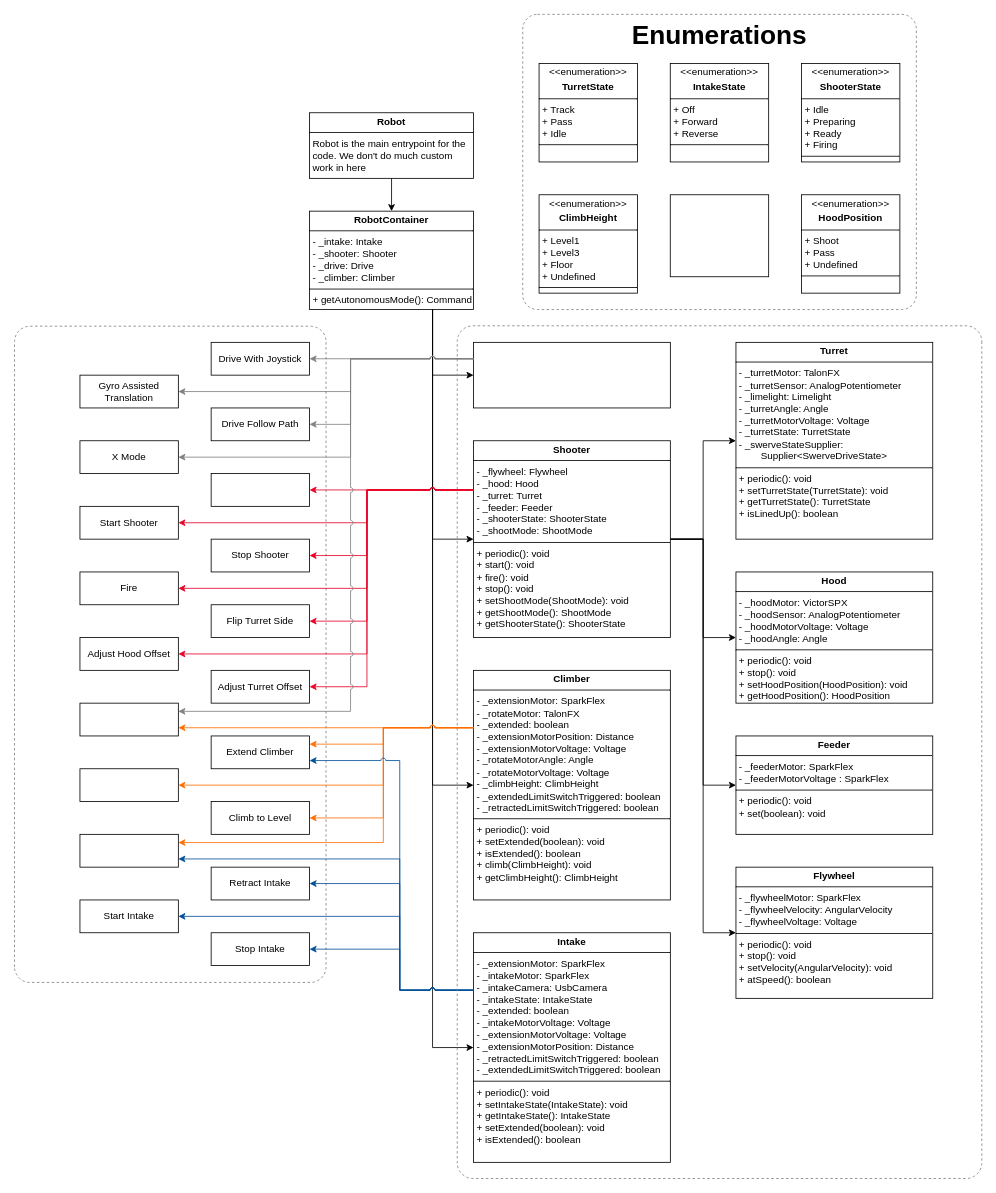
Image size: 996x1193. Some labels were removed from this diagram. Here are the shapes that lost their labels. From the top down, the box of each, then its label:
(669, 194, 769, 277): <<enumeration>> ShootMode + Shoot + Pass
(473, 342, 670, 408): Drive Interface is autogenerated by Phoenix Tuner X
(210, 473, 310, 506): Set Shoot Mode
(14, 325, 326, 982): Commands
(79, 702, 178, 736): Dismount
(456, 325, 982, 1179): Subsystems
(79, 768, 178, 802): Retract Climber
(79, 834, 178, 867): Extend Intake
